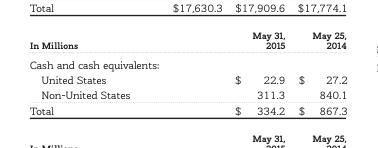table: (28, 28, 346, 116)
table column: (28, 28, 181, 116), (181, 28, 291, 116), (291, 28, 346, 116)
table column header: (28, 28, 346, 54)
table projected row header: (28, 54, 346, 71)
table row: (28, 28, 346, 54), (28, 54, 346, 71), (28, 86, 346, 102), (28, 71, 346, 86), (28, 102, 346, 116)
